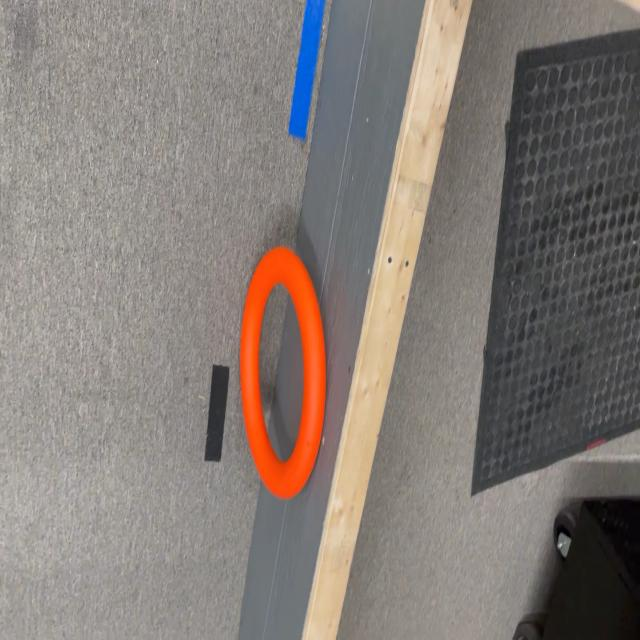note: (238, 249, 327, 497)
